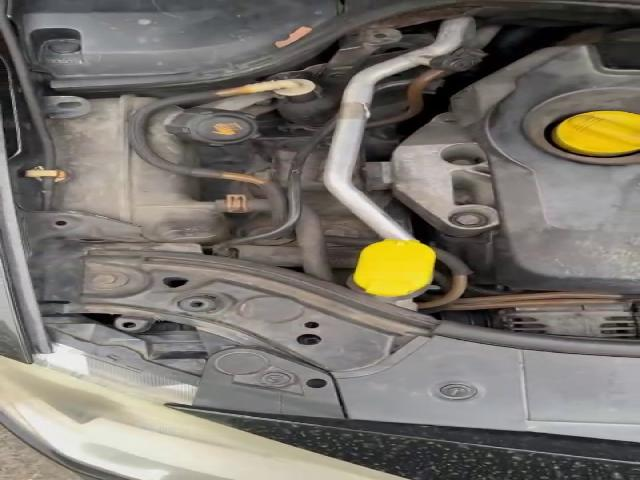antifreeze_tank: (51, 96, 230, 243), (148, 107, 258, 166)
